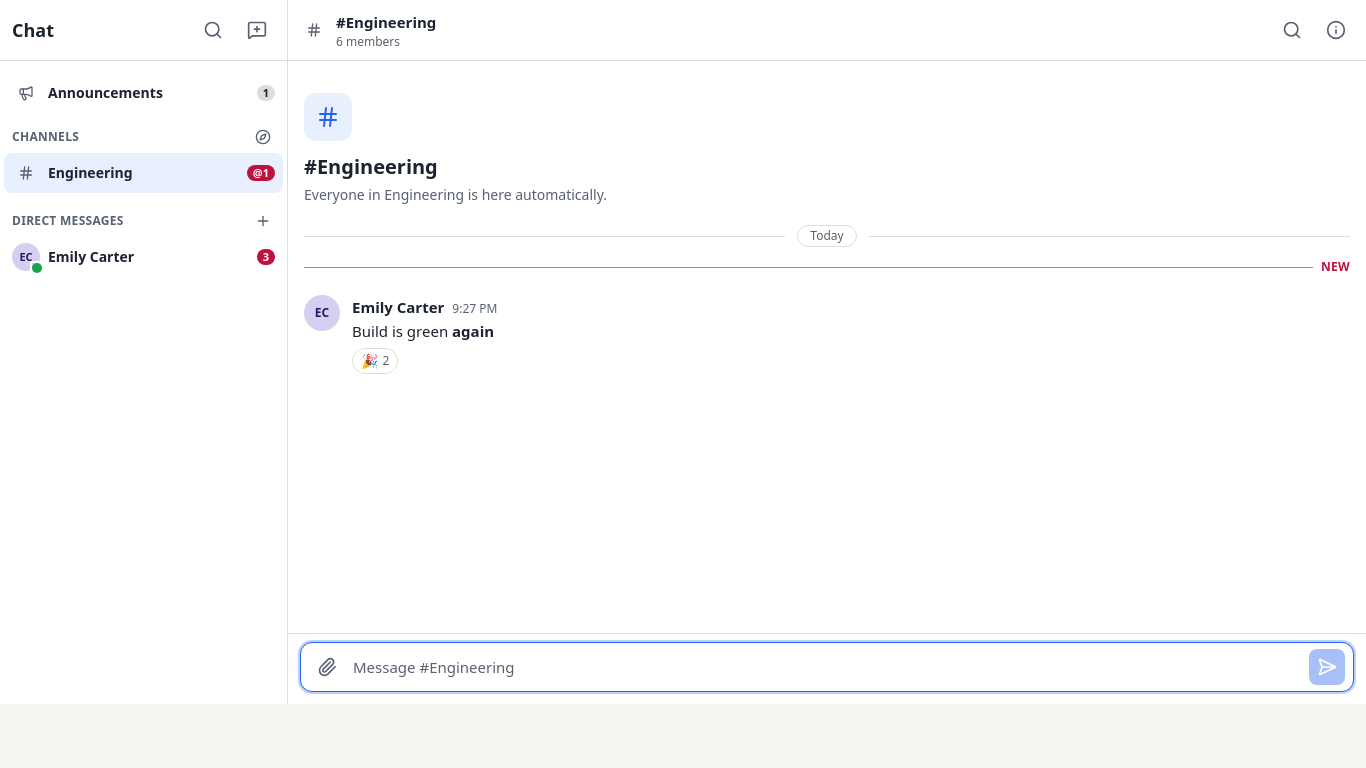
it: Chat › shows messages and sends one with a mention
Expected: the text "again" is shown, [452,321,494,341]
Expected: the button "🎉 2" is shown, [352,348,398,374]
Type "Thanks @Emi" into the text box labelled "Message #Engineering" at (827,667), box [353,649,1301,685]
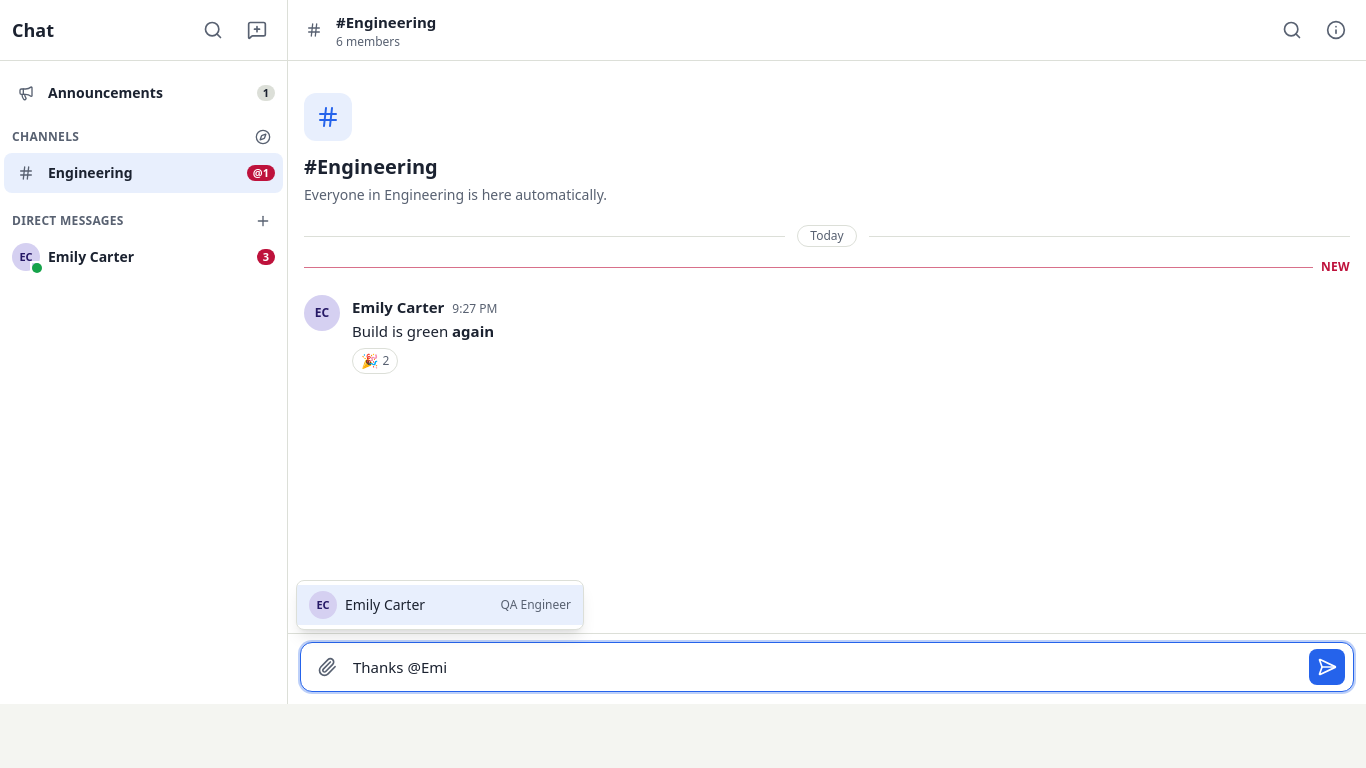
Result: the option "EC Emily Carter QA Engineer" is shown at [297,585,583,625]
Press Enter
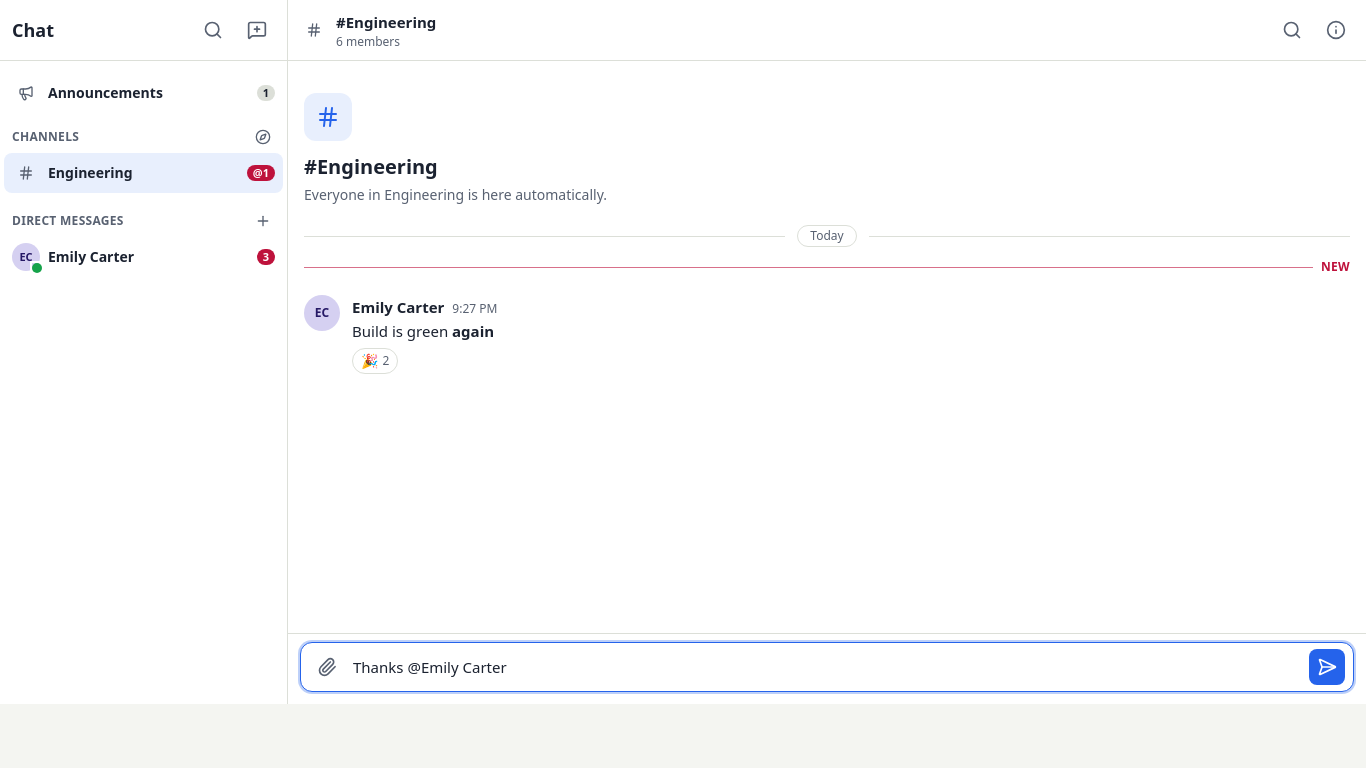
Type "great work" into the text box named "Message #Engineering" at (827,667), box [353,649,1301,685]
Then press Enter
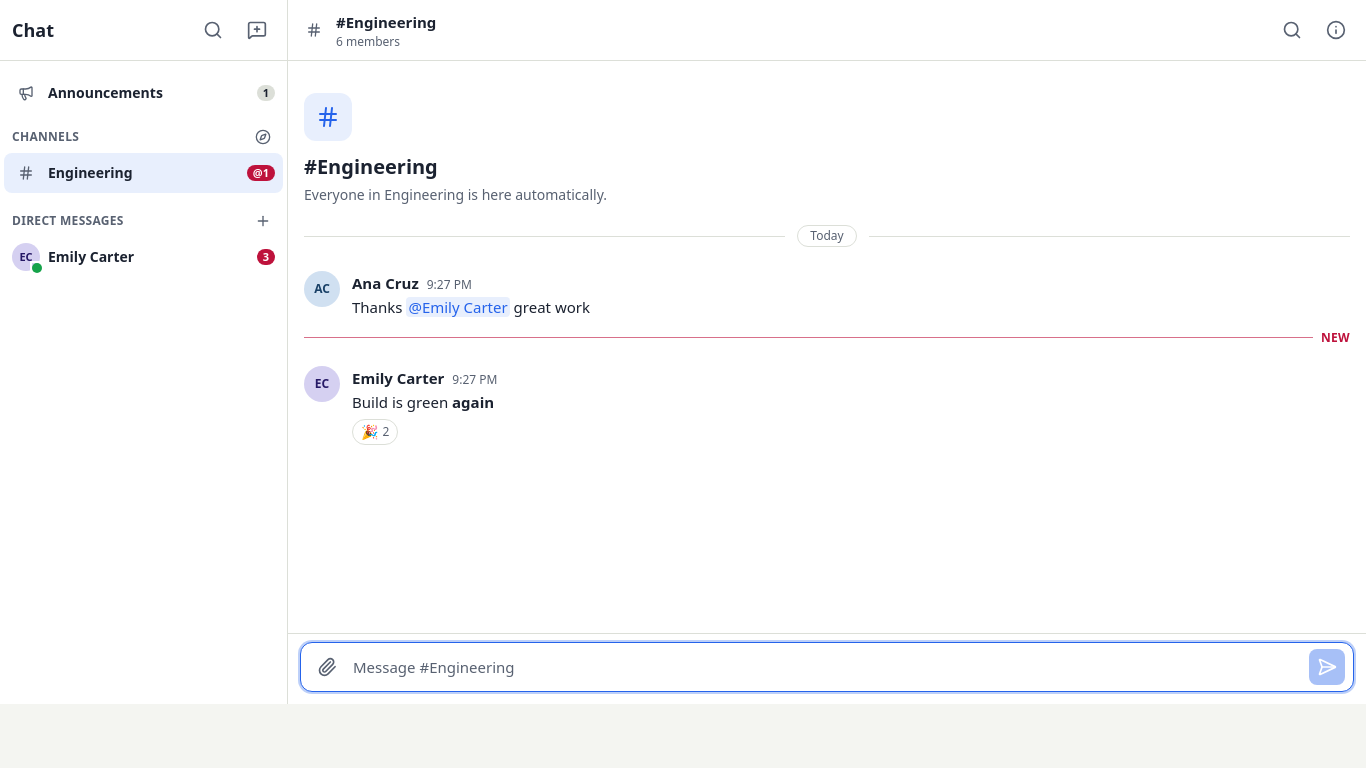
Result: the element showing "Thanks @Emily Carter great work" is shown at [352,297,590,317]
Result: the text "great work" is shown at [510,297,590,317]
Result: the text box labelled "Message #Engineering" is empty at [353,649,1301,685]
